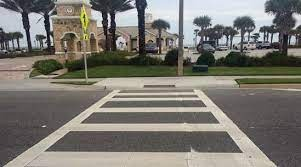crosswalk: (9, 89, 274, 166), (89, 76, 300, 88), (32, 79, 82, 82)
pole: (177, 0, 183, 75)
